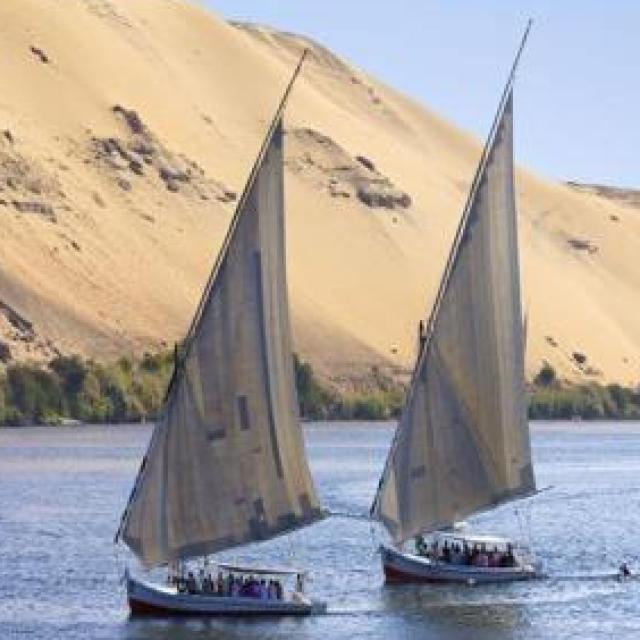sailboat: (125, 39, 325, 617), (381, 15, 560, 583)
